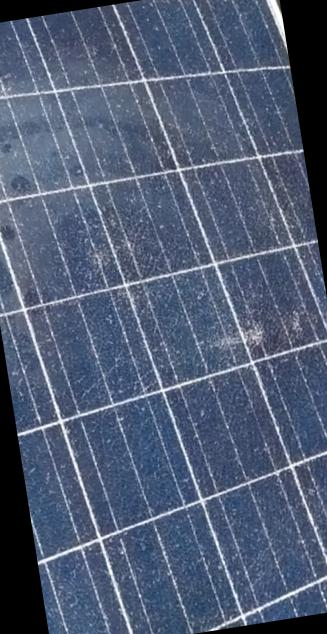Crack: (206, 308, 274, 368), (282, 308, 314, 344)
